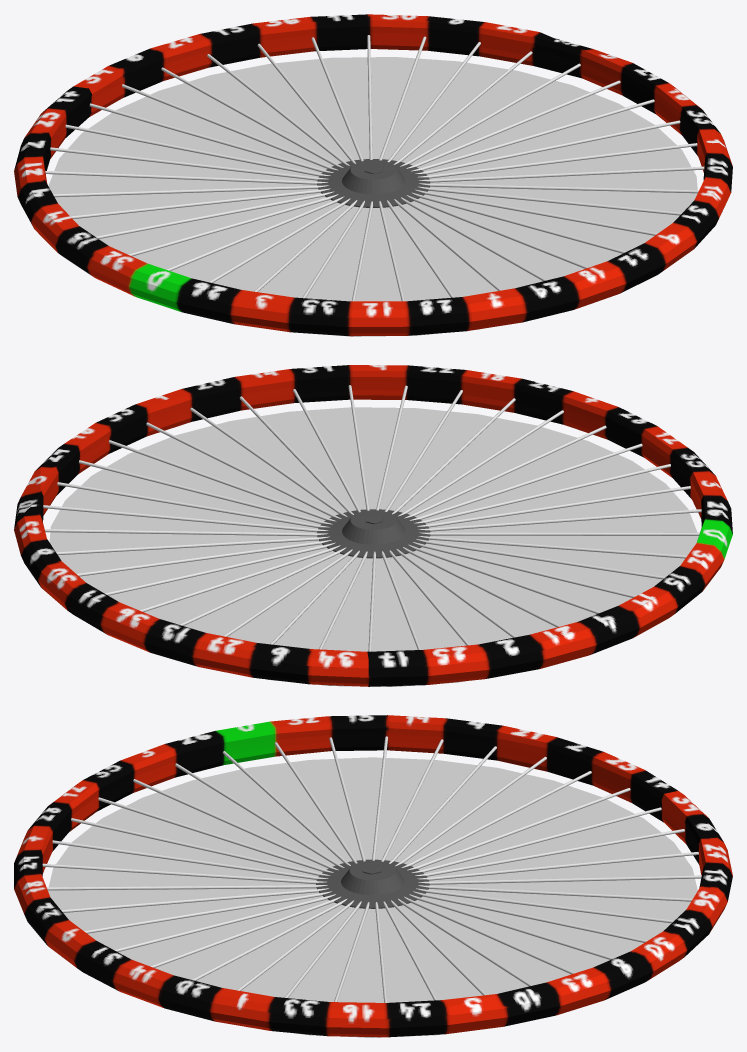
File: roleta_veryseriousgamejam(2).fbx
3 views of the same model, one above another, from view 1: azimuth 30°, elevation 25°; view 2: azimuth 150°, elevation 25°; view 3: azimuth 270°, elevation 25° (orthographic).
Visible parts, largest first — view 1: cartão, pneu, pauzinhos, centro; view 2: cartão, pneu, pauzinhos, centro; view 3: cartão, pneu, pauzinhos, centro.
Part boxes in pixels (bbox=[...]): cartão: bbox=[48, 57, 697, 336]; pneu: bbox=[14, 14, 732, 336]; pauzinhos: bbox=[45, 35, 704, 301]; centro: bbox=[317, 159, 430, 207]; cartão: bbox=[49, 407, 698, 686]; pneu: bbox=[14, 365, 732, 686]; pauzinhos: bbox=[43, 385, 701, 651]; centro: bbox=[317, 509, 430, 558]; cartão: bbox=[48, 757, 697, 1037]; pneu: bbox=[14, 715, 732, 1037]; pauzinhos: bbox=[42, 736, 701, 1002]; centro: bbox=[316, 859, 429, 908].
Bounding box in the file's own units: 691 × 40.52 × 691.
Materials: 4 (1 with a texture image).
